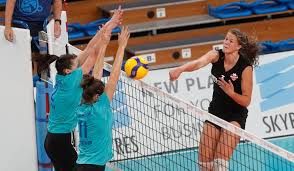ball: (124, 55, 149, 80)
